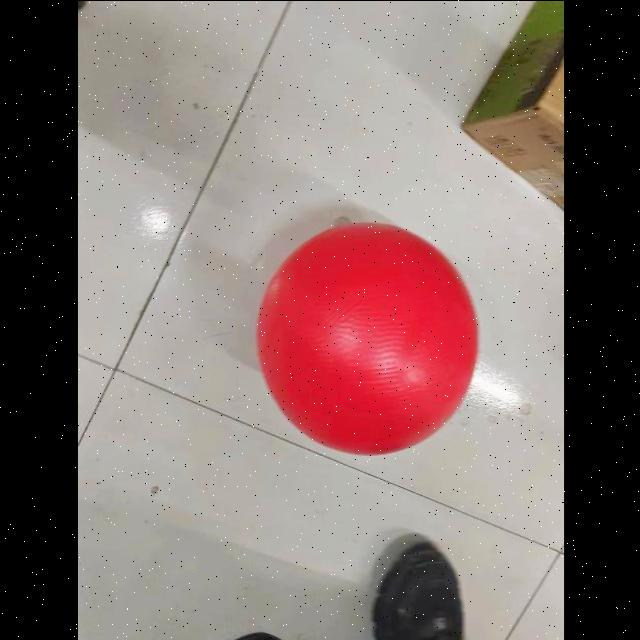R: (254, 216, 483, 460)
